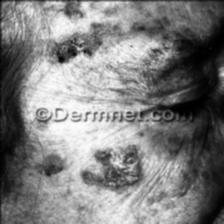Potentially Malignant Skin Tumors: (77, 132, 147, 194), (54, 33, 102, 71), (26, 150, 72, 182)
